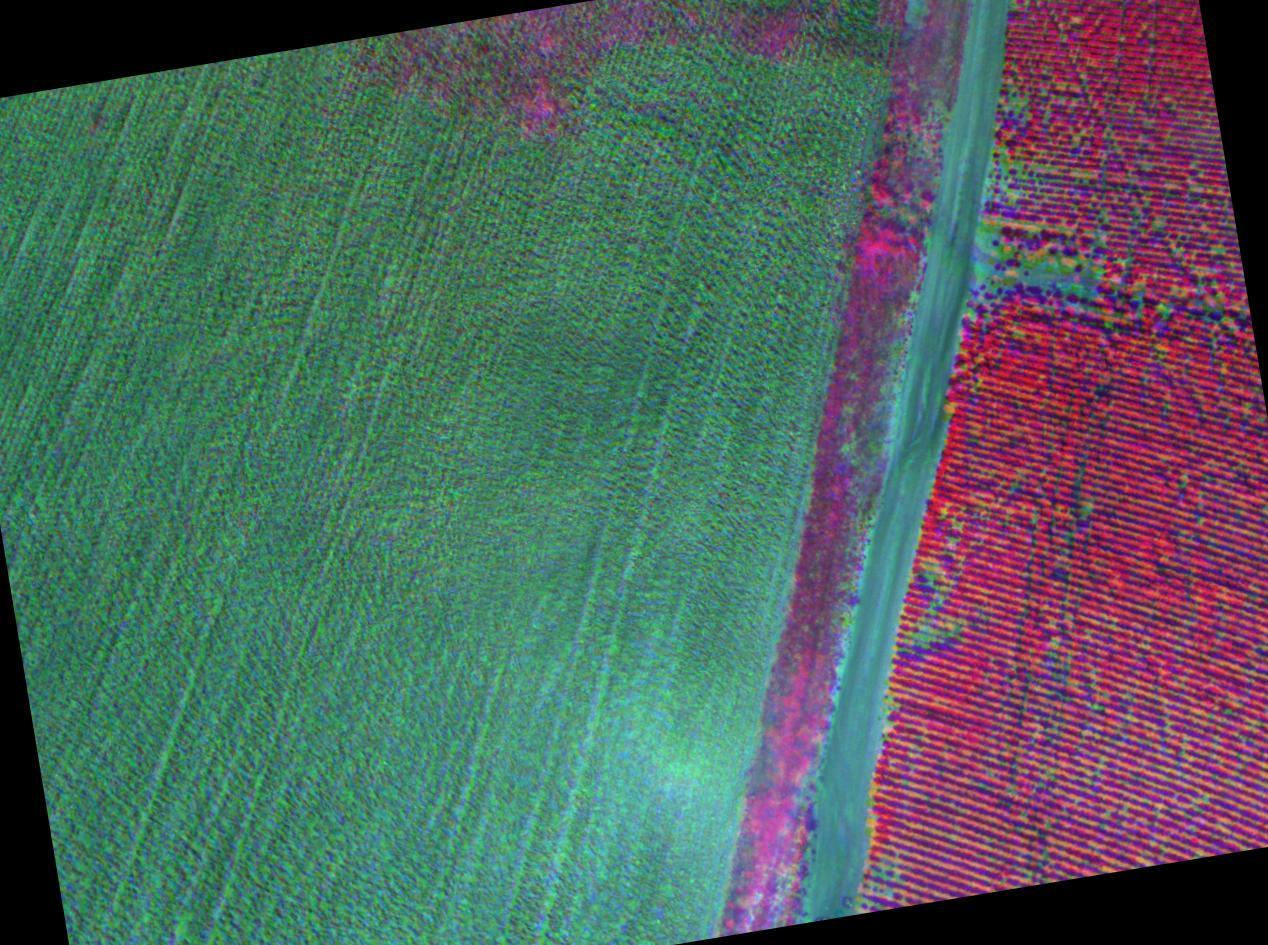dc: (1074, 166, 1089, 177), (1025, 258, 1037, 271), (922, 627, 934, 639), (1065, 261, 1075, 273), (1136, 293, 1144, 307), (880, 861, 891, 871), (1082, 504, 1091, 515), (1098, 231, 1106, 243), (1197, 796, 1209, 804), (1082, 282, 1090, 293), (1032, 283, 1044, 289), (1074, 137, 1081, 146)
